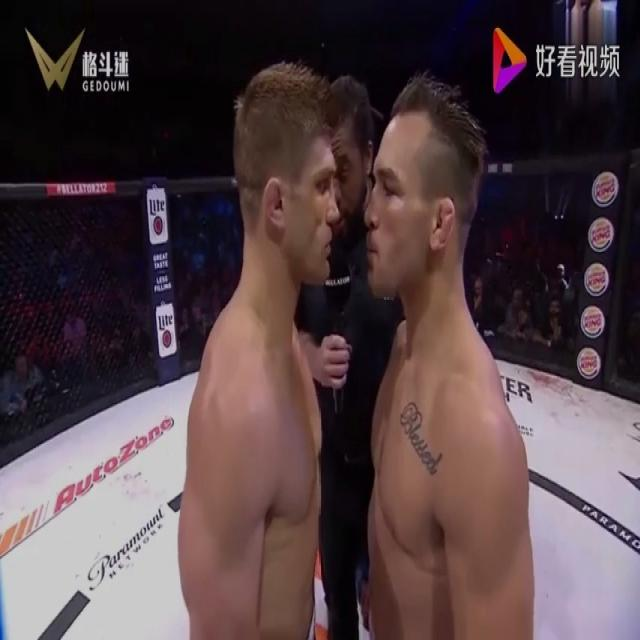non-fight: (178, 59, 540, 639), (297, 74, 411, 640)
